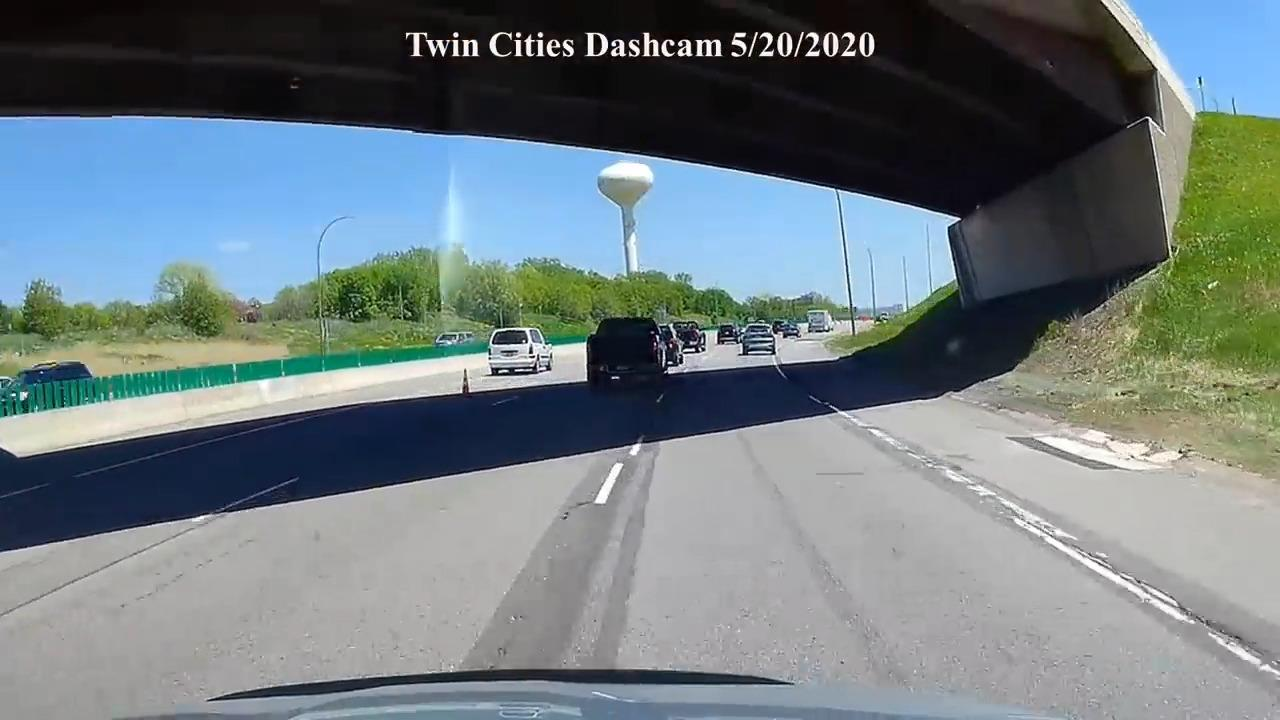car: (14, 361, 95, 404), (486, 327, 554, 375), (434, 332, 474, 348)
traffic cone: (459, 367, 473, 396)
